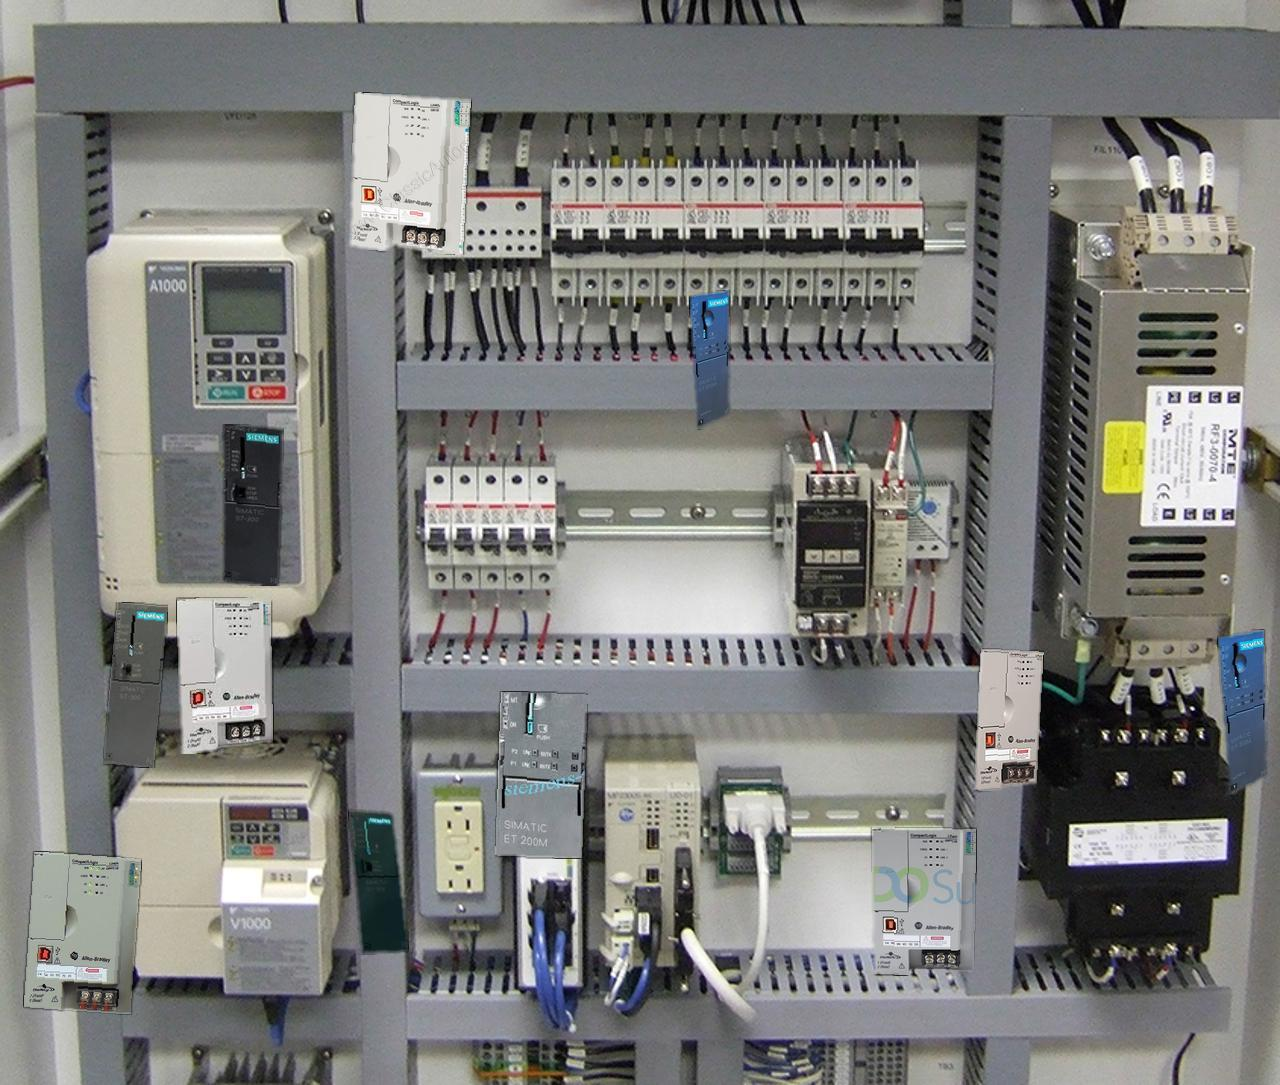AllenBradley: (350, 91, 470, 254), (24, 852, 140, 1013), (872, 828, 975, 974), (177, 598, 272, 753), (975, 649, 1043, 790)
Siemens: (104, 602, 167, 767), (223, 424, 282, 584), (349, 811, 407, 953)
